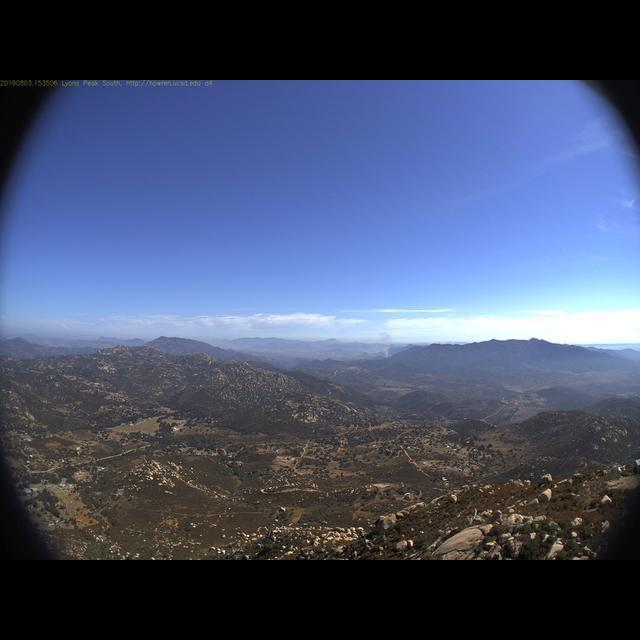Smoke: (337, 322, 394, 360)
